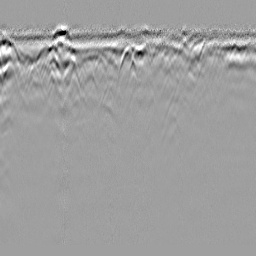cavity: (117, 43, 137, 78)
